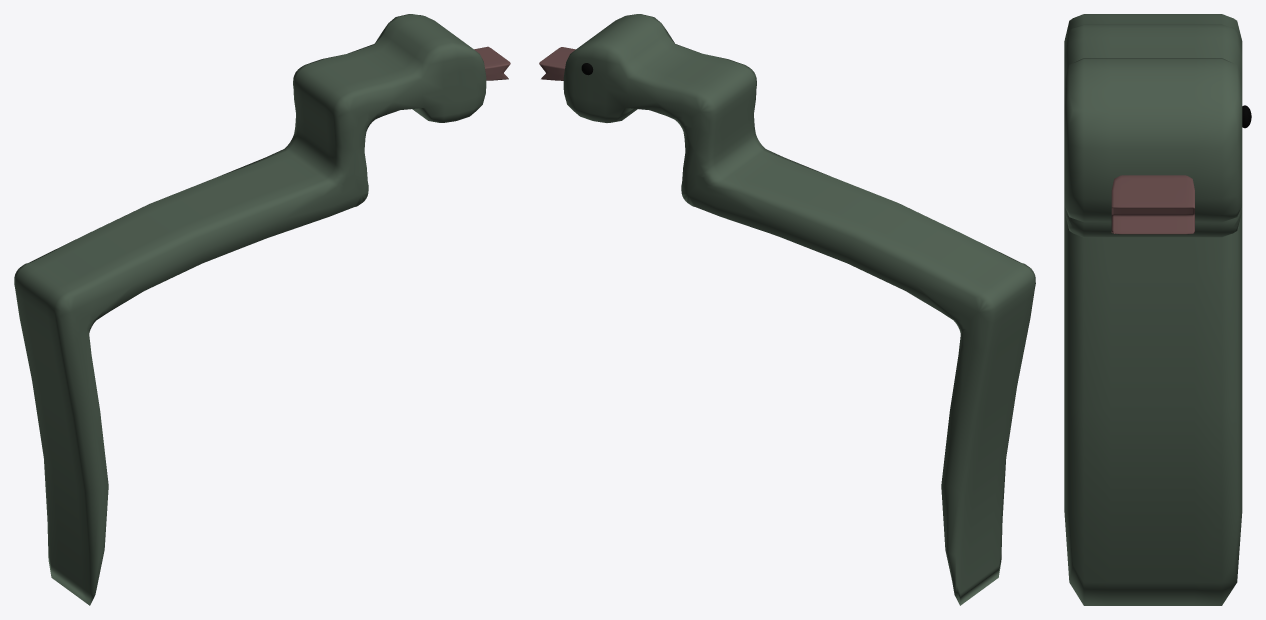
The model's file is symbol5new.fbx.
3 views of the same model, side by side, from view 1: azimuth 30°, elevation 25°; view 2: azimuth 150°, elevation 25°; view 3: azimuth 270°, elevation 25° (orthographic). The views are drawn at different scales.
Parts seen in each view (by area): view 1: symbol5; view 2: symbol5; view 3: symbol5.
Part boxes in pixels (x1=…): symbol5: x1=14, y1=14, x2=510, y2=605; symbol5: x1=539, y1=14, x2=1035, y2=605; symbol5: x1=1064, y1=14, x2=1251, y2=605.
Size of the model in its own units: 47.65 by 46.58 by 9.28.
